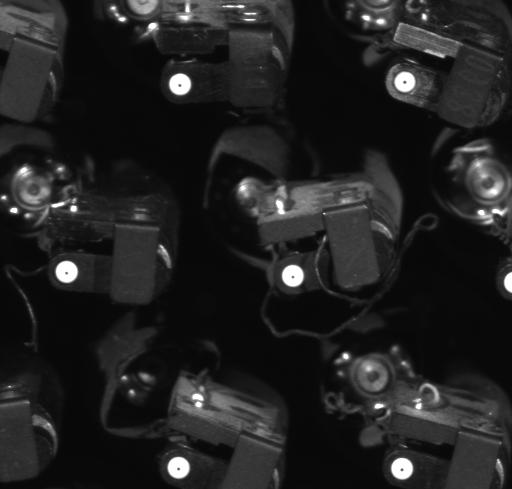fiber: (162, 449, 202, 485), (163, 68, 204, 101), (381, 453, 420, 485), (388, 68, 425, 99), (50, 254, 84, 286), (279, 261, 312, 292), (501, 261, 512, 300)
